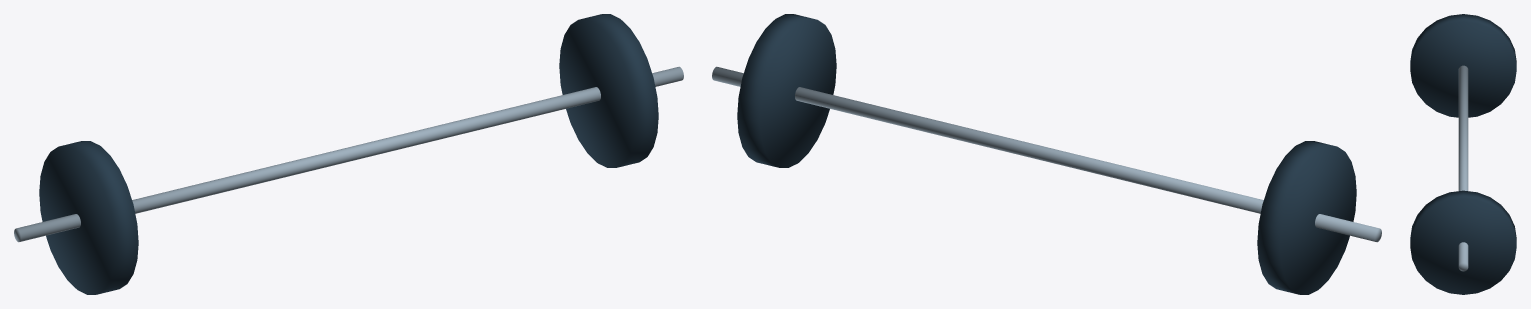
File: barbell_a_close_grip_bench_press.glb
The picture shows the model from 3 angles, left to right: view 1: azimuth 30°, elevation 25°; view 2: azimuth 150°, elevation 25°; view 3: azimuth 270°, elevation 25°; orthographic projection. The views are drawn at different scales.
Visible parts, largest first — view 1: plates, shaft; view 2: plates, shaft; view 3: plates, shaft.
Part boxes in pixels (left/top/right/bottom): plates: left=39, top=14, right=658, bottom=294; shaft: left=14, top=66, right=683, bottom=242; plates: left=737, top=14, right=1356, bottom=294; shaft: left=712, top=66, right=1381, bottom=242; plates: left=1410, top=14, right=1516, bottom=294; shaft: left=1458, top=65, right=1468, bottom=271.
Bounding box in the file's own units: 1.3 × 0.26 × 0.26.
